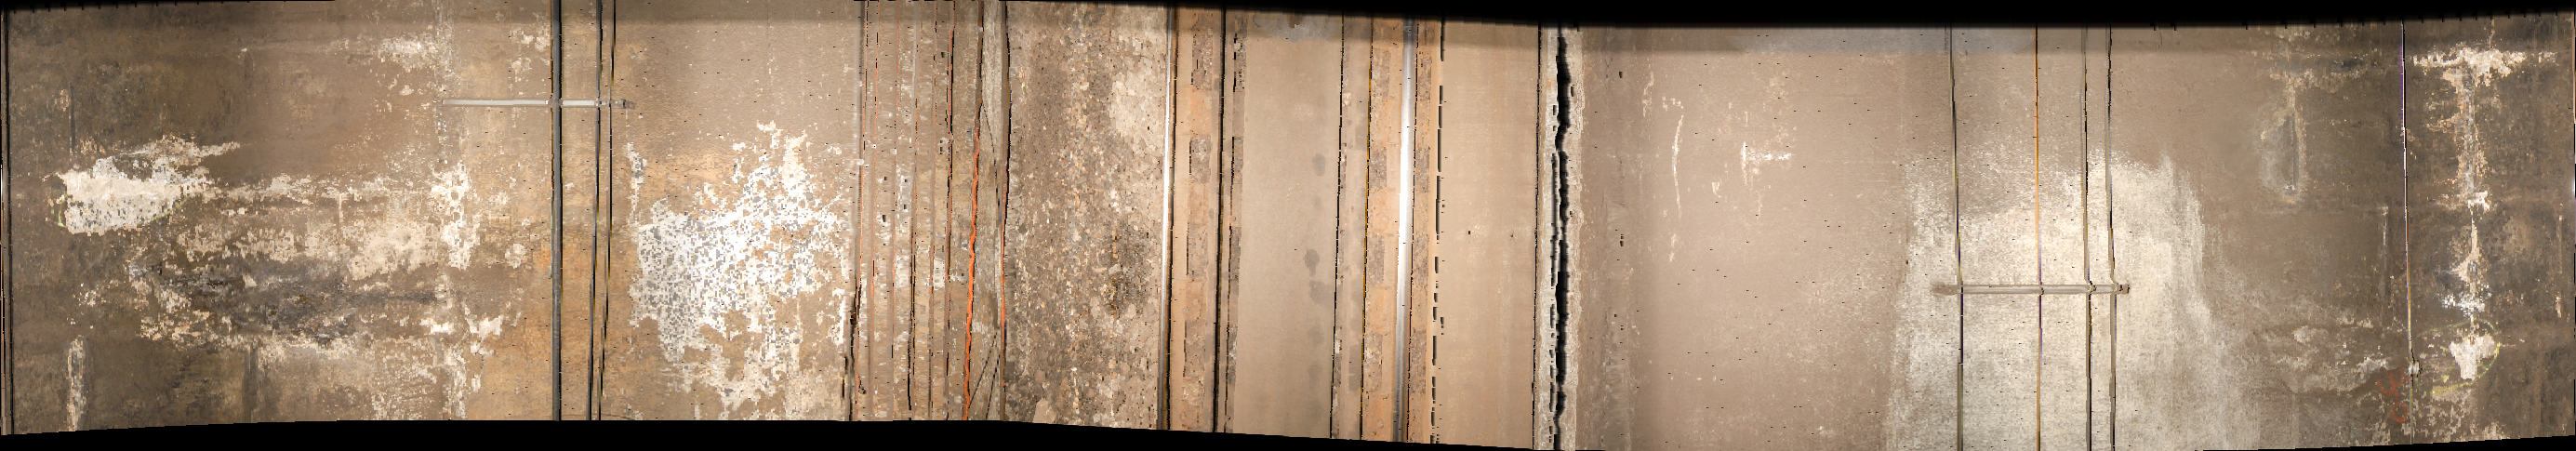pipes: (849, 10, 1025, 444), (545, 2, 618, 426), (2075, 25, 2131, 449), (2390, 10, 2431, 449), (1939, 23, 1976, 449), (2026, 26, 2055, 449)
tracks: (1160, 8, 1585, 449)
